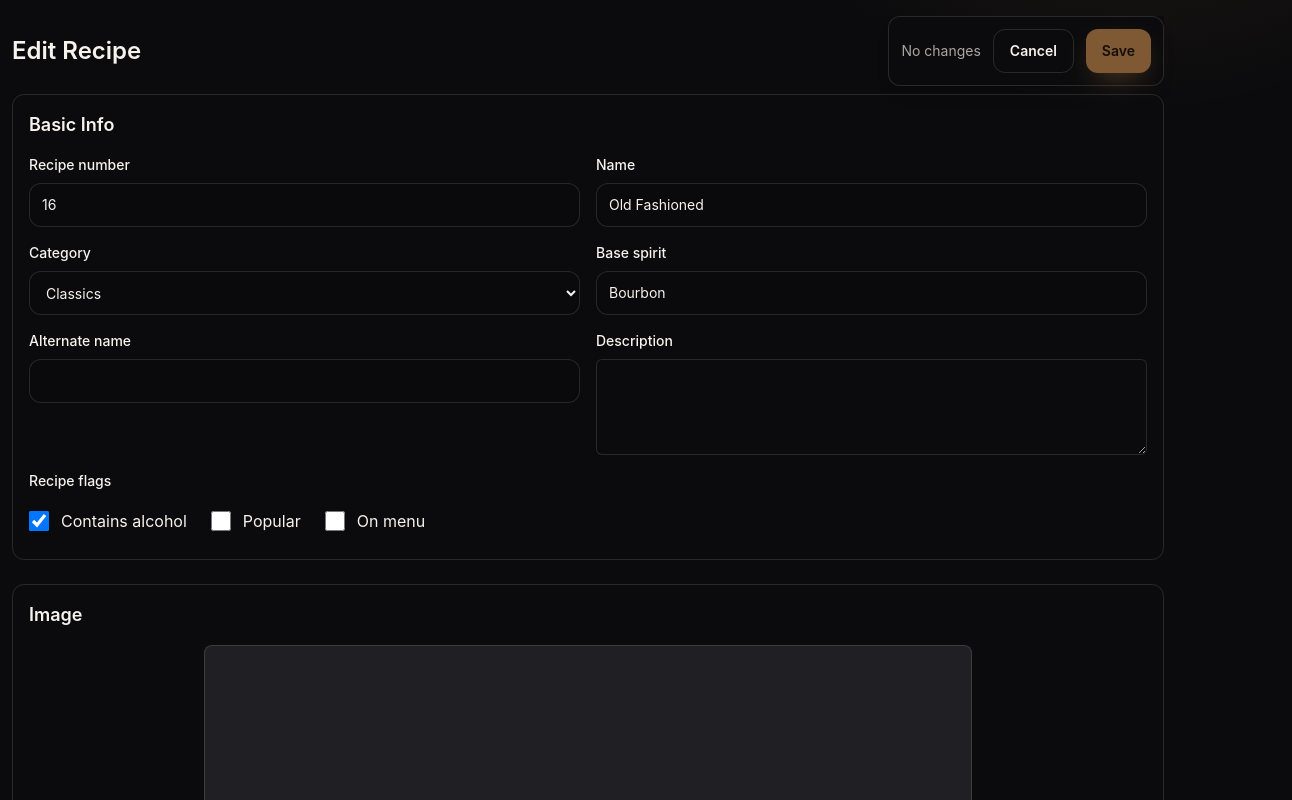
category reassignment in editor › handles stale PT409 conflict during category reassignment
Select "Modern" in the dropdown labelled "Category" at (304, 293), box [29, 271, 580, 315]
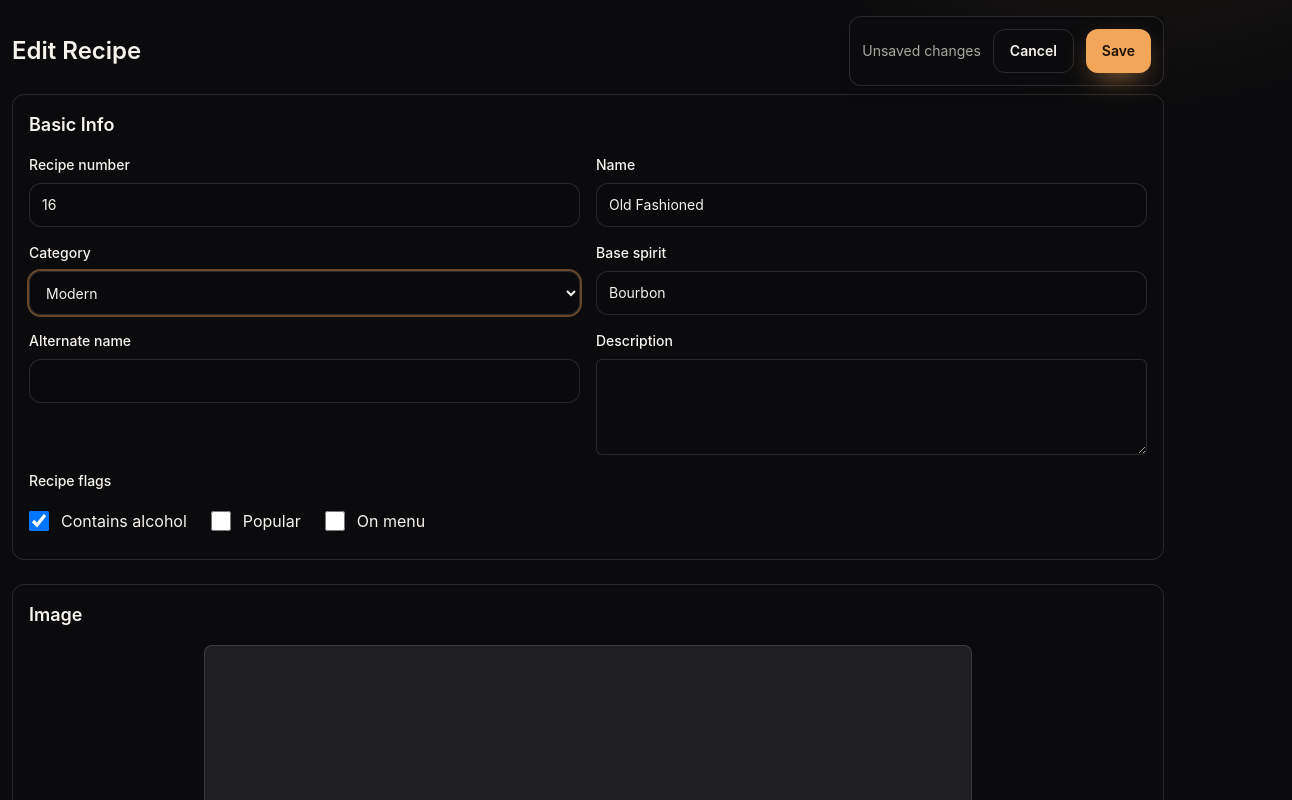
Click the button "Save" at (1118, 51), box [1086, 29, 1151, 73]
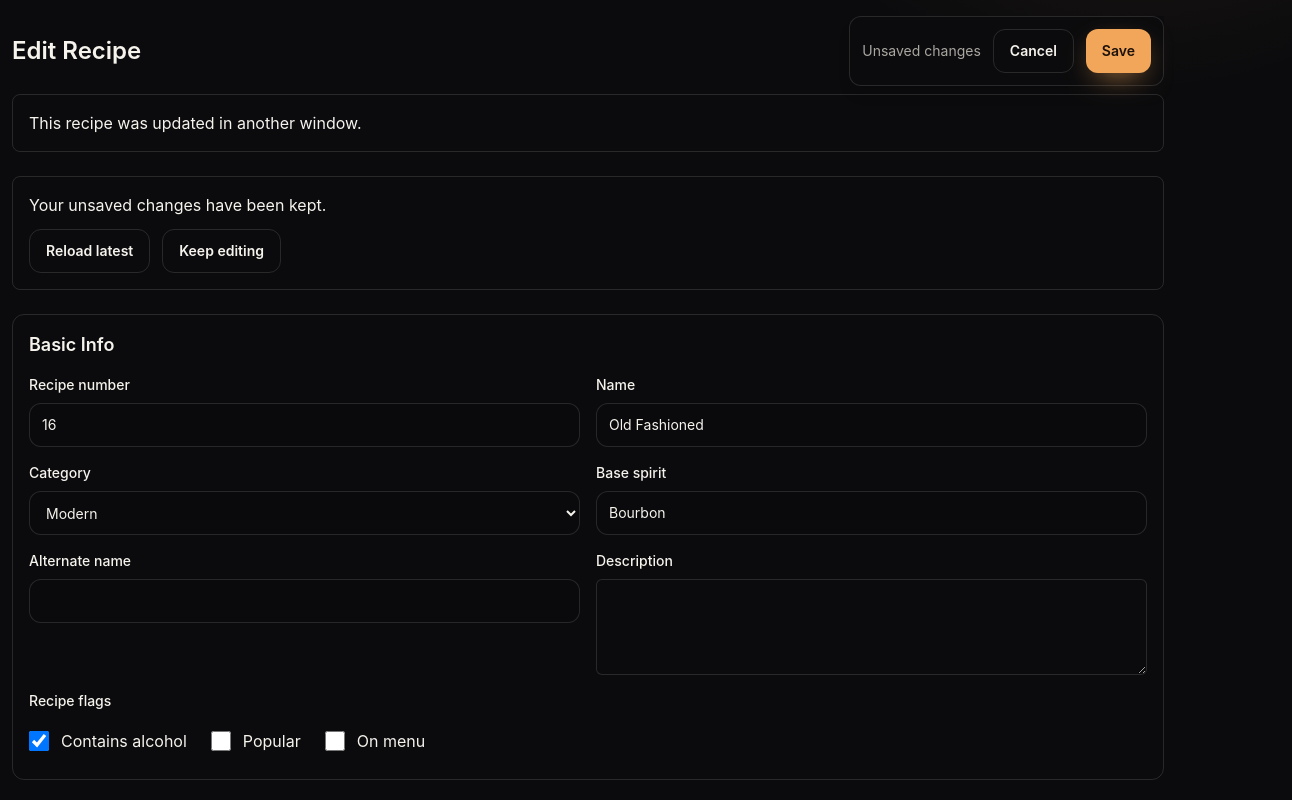
Expected: the text "This recipe was updated in another window." is shown, [29, 113, 362, 133]
Expected: the button "Reload latest" is shown, [29, 229, 150, 273]
Expected: the button "Keep editing" is shown, [162, 229, 281, 273]
